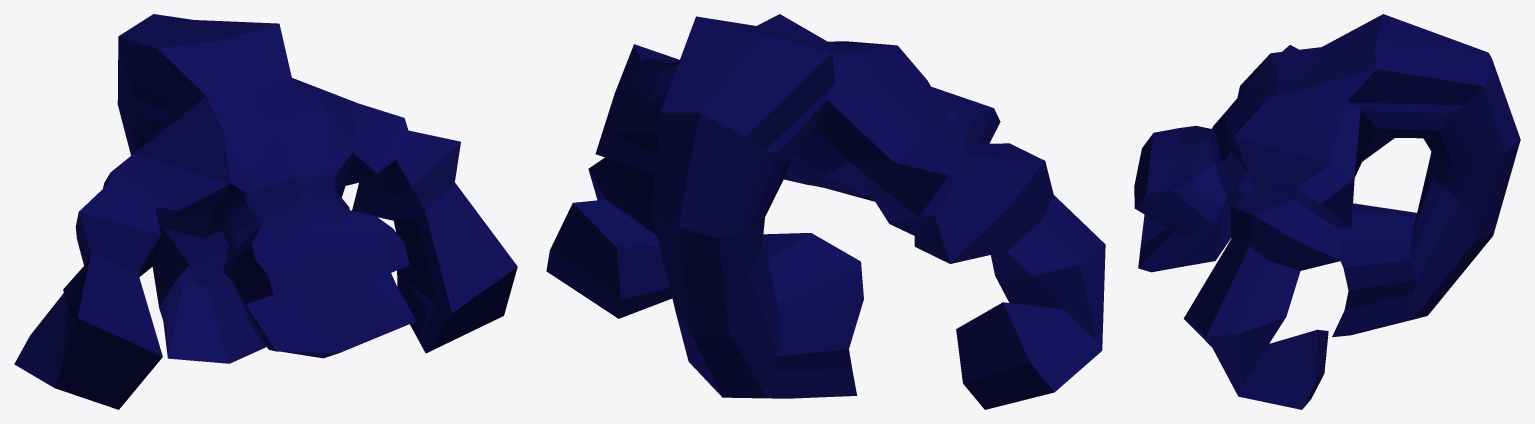
The model's file is retch.glb.
3 renders of one model, left to right at view 1: azimuth 30°, elevation 25°; view 2: azimuth 150°, elevation 25°; view 3: azimuth 270°, elevation 25°, orthographic. The views are drawn at different scales.
Parts seen in each view (by area): view 1: Cube; view 2: Cube; view 3: Cube.
Part boxes in pixels (box(x1,y1,x2,y2)): Cube: box(14, 14, 517, 409); Cube: box(546, 14, 1105, 409); Cube: box(1134, 14, 1520, 409).
Bounding box in the file's own units: 9.84 × 6.63 × 7.83.
